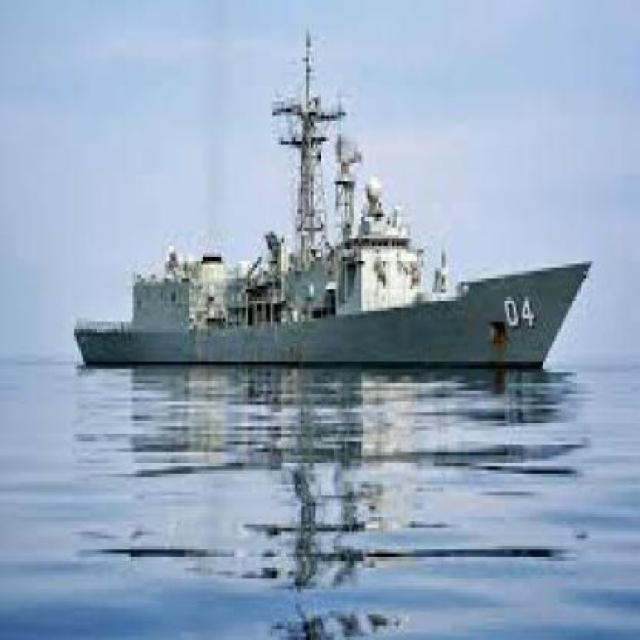warship2: (78, 20, 607, 403)
